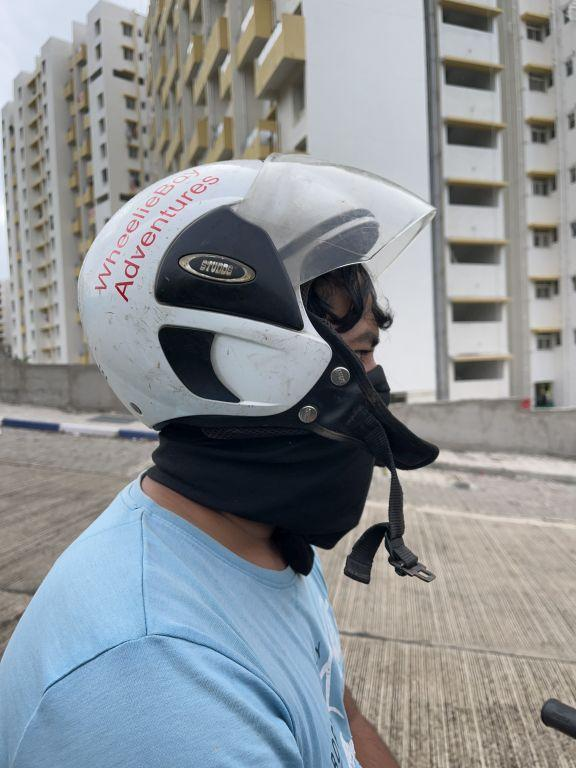helmet: (64, 140, 449, 625)
